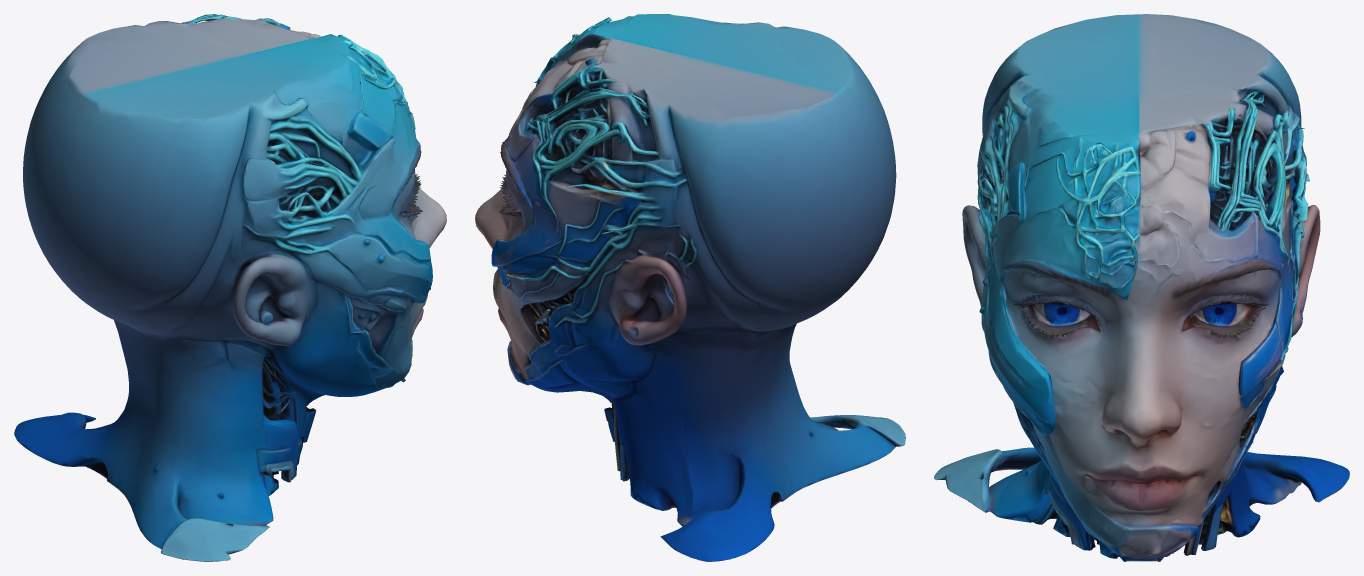
The model's file is alpha-android.glb.
3 views of the same model, side by side, from view 1: azimuth 30°, elevation 25°; view 2: azimuth 150°, elevation 25°; view 3: azimuth 270°, elevation 25° (orthographic). The views are drawn at different scales.
Visible parts, largest first — view 1: tripo_node_7c2bcaee-118a-45e0-91dd-0c8b2246c504; view 2: tripo_node_7c2bcaee-118a-45e0-91dd-0c8b2246c504; view 3: tripo_node_7c2bcaee-118a-45e0-91dd-0c8b2246c504.
Part boxes in pixels (bbox=[...]): tripo_node_7c2bcaee-118a-45e0-91dd-0c8b2246c504: bbox=[14, 14, 446, 561]; tripo_node_7c2bcaee-118a-45e0-91dd-0c8b2246c504: bbox=[475, 14, 905, 561]; tripo_node_7c2bcaee-118a-45e0-91dd-0c8b2246c504: bbox=[934, 14, 1349, 561].
Bounding box in the file's own units: 0.9803 × 0.9655 × 0.8219.
Materials: 1 (1 with a texture image).
